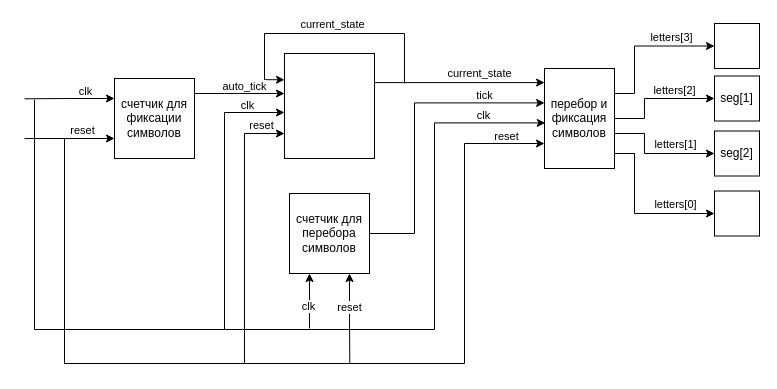
This 777x389 diagram has some shape labels left out. The box of each missing label's shape, as (x1, y1, x2, y2) in pixels:
seg[0]: (714, 22, 760, 68)
seg[3]: (714, 190, 760, 236)
конечный автомат: (284, 52, 374, 158)
